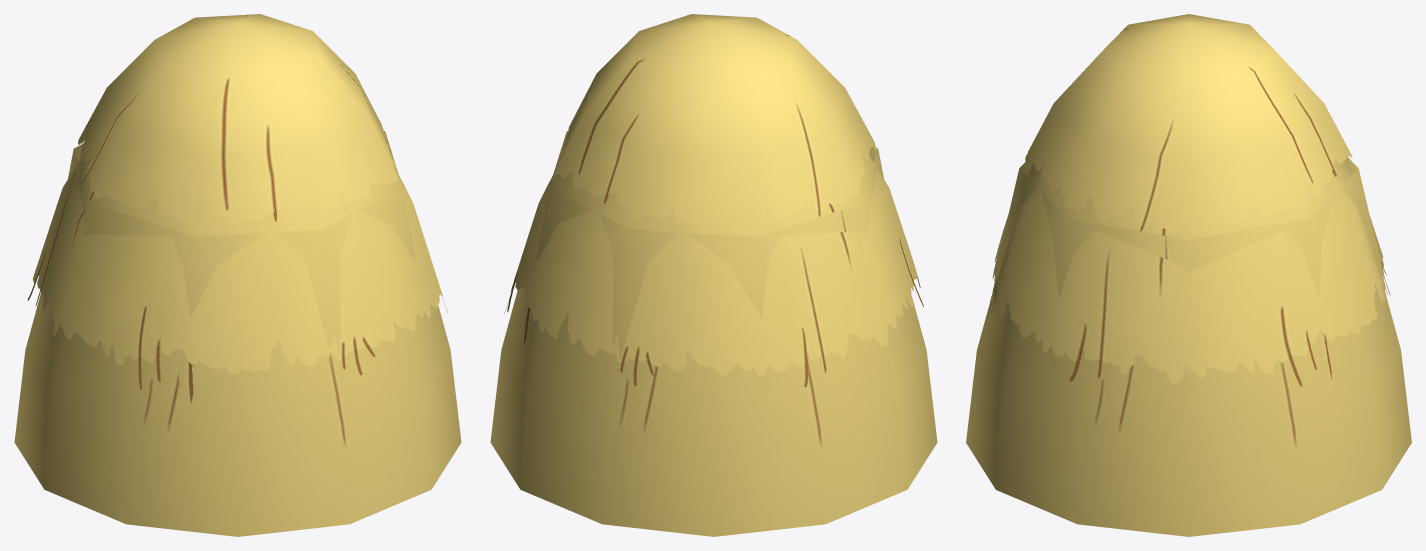
File: saapile.dae
3 renders of one model, left to right at view 1: azimuth 30°, elevation 25°; view 2: azimuth 150°, elevation 25°; view 3: azimuth 270°, elevation 25°, orthographic.
Parts seen in each view (by area): view 1: HayPile, HayPileConvex; view 2: HayPile, HayPileConvex; view 3: HayPile, HayPileConvex.
Boxes of the visible parts, x1,y1,x2,y2 form: HayPile: (14,14,461,536); HayPileConvex: (58,131,428,500); HayPile: (490,14,937,536); HayPileConvex: (523,129,892,500); HayPile: (966,14,1411,536); HayPileConvex: (991,154,1403,500).
Size of the model in its own units: 43.66 by 45.17 by 43.66.
